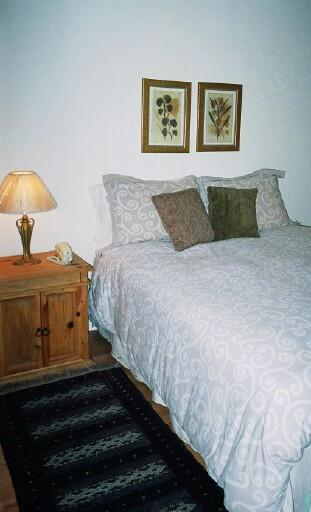Cama: (93, 168, 309, 510)
